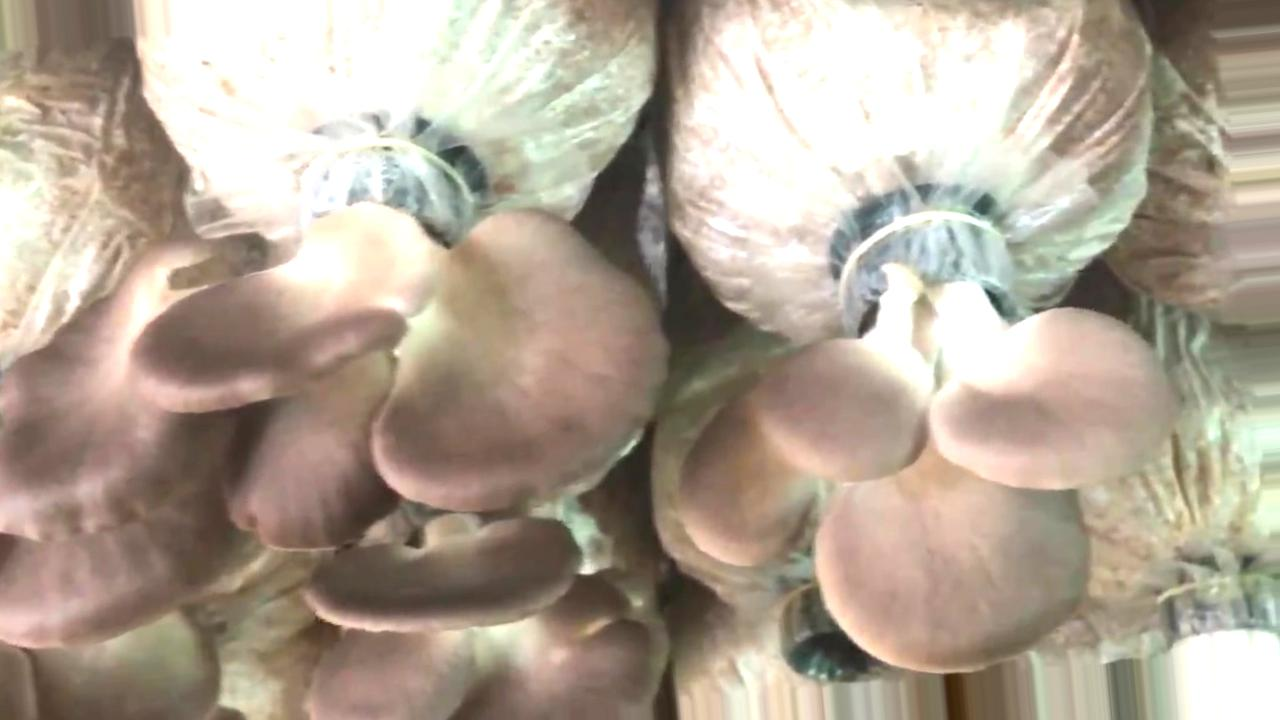nam: (1, 140, 674, 646), (678, 216, 1178, 674), (311, 562, 662, 720), (1, 609, 221, 717)
